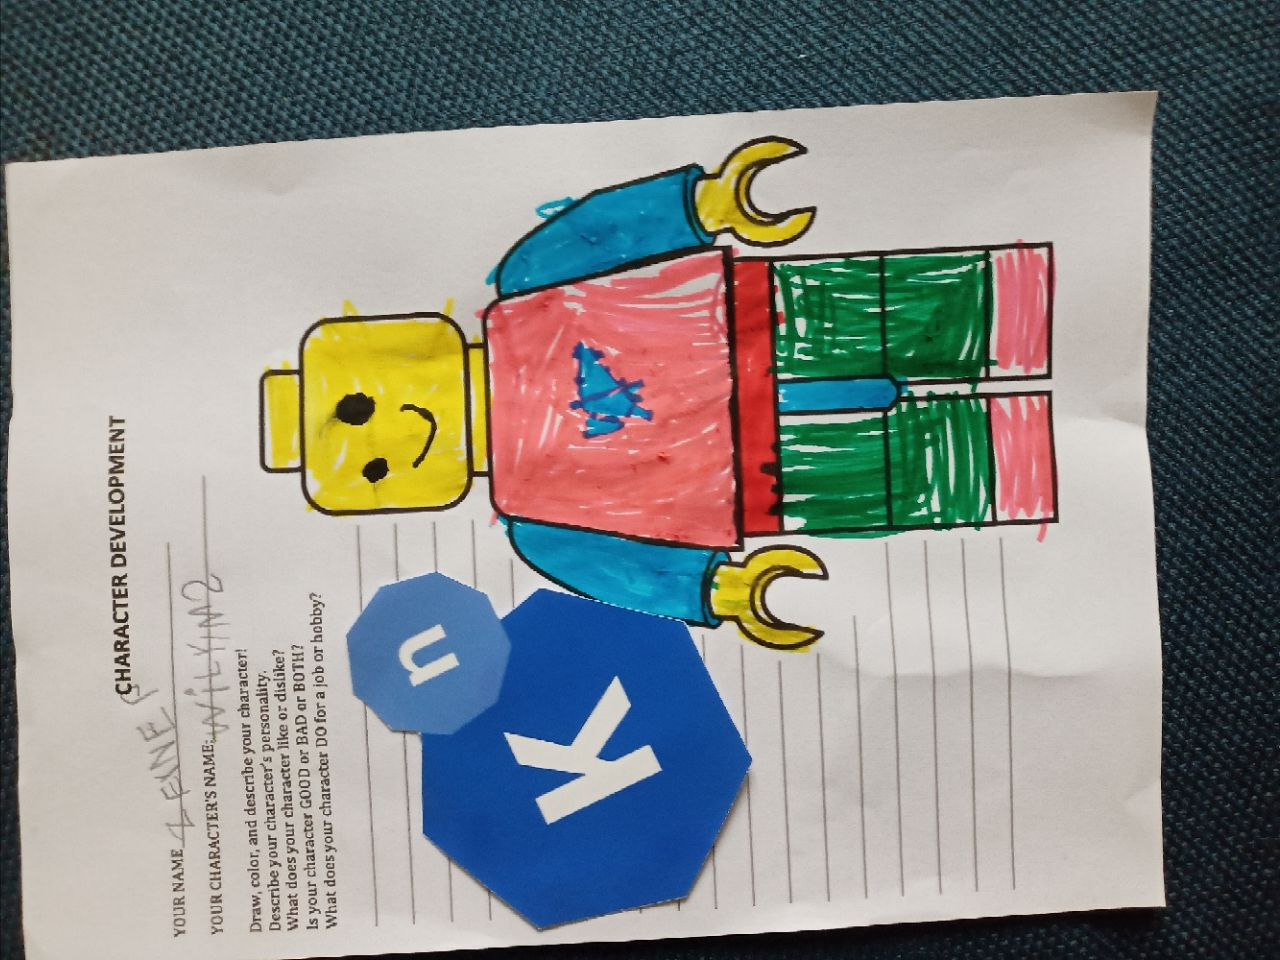knative: (344, 570, 754, 932)
